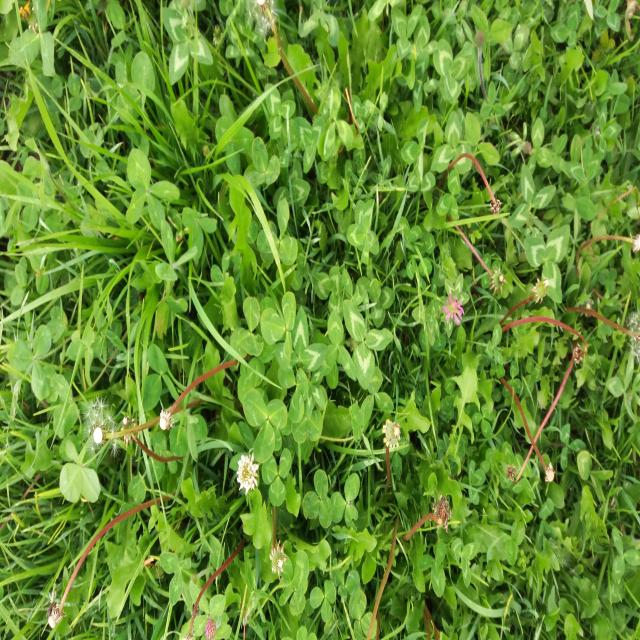Four Leaf Clover: (126, 148, 180, 231)
